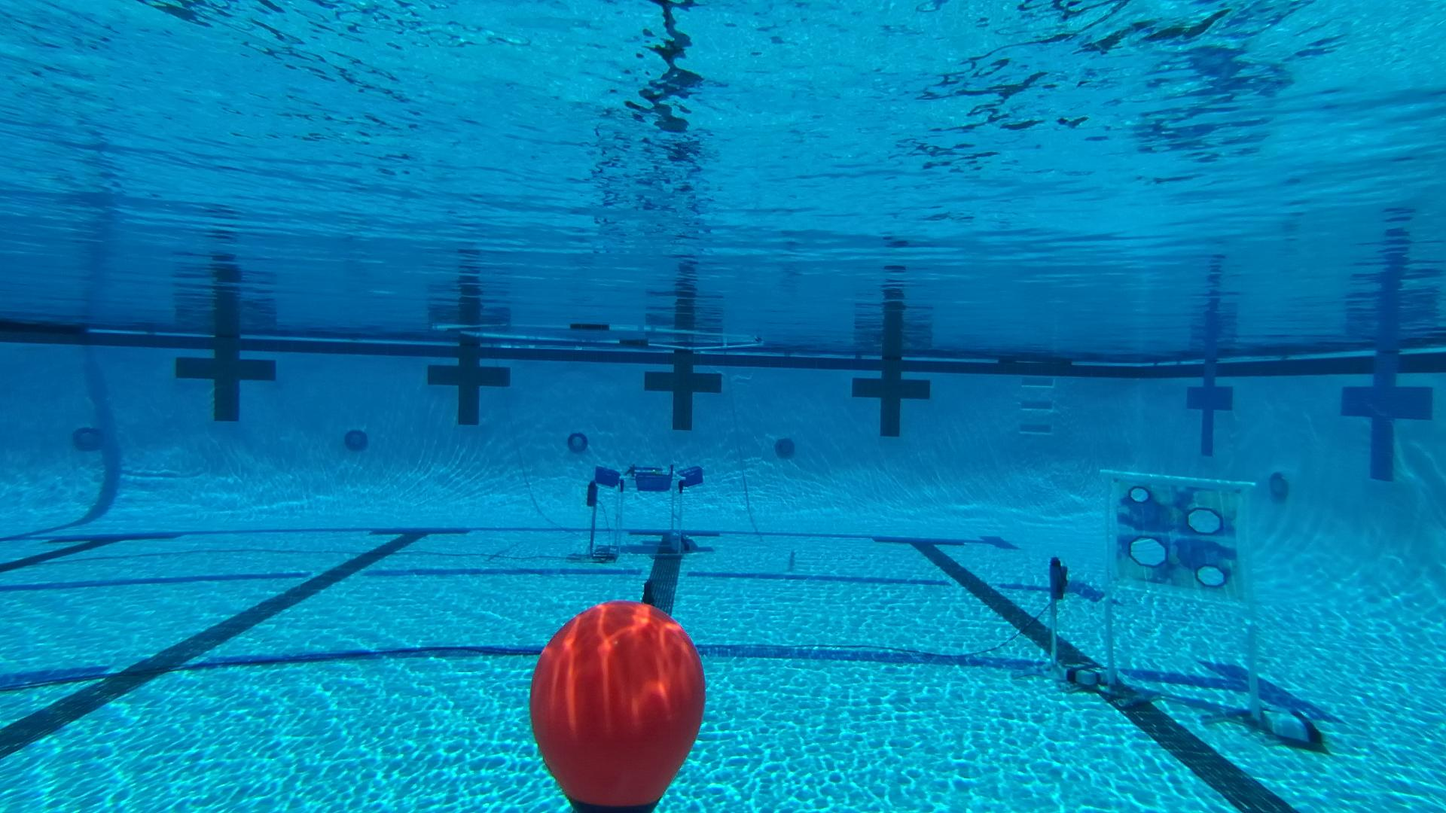buoy: (527, 598, 706, 808)
coral-box-side: (583, 460, 709, 562)
red octagon: (1130, 537, 1173, 571), (1186, 506, 1225, 541), (1196, 561, 1223, 590), (1130, 488, 1147, 506)
